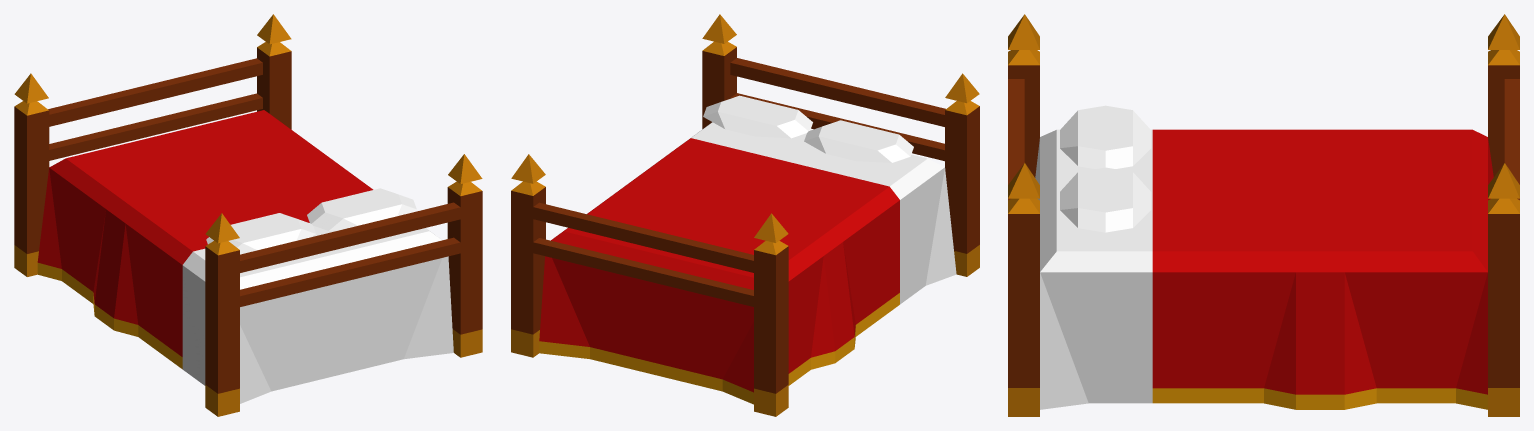
The model's file is Bigbed.obj.
3 views of the same model, side by side, from view 1: azimuth 30°, elevation 25°; view 2: azimuth 150°, elevation 25°; view 3: azimuth 270°, elevation 25° (orthographic). The views are drawn at different scales.
Visible parts, largest first — view 1: Bigbed_back; view 2: Bigbed_back; view 3: Bigbed_back.
Part boxes in pixels (<box>): Bigbed_back: <box>14,14,482,416</box>; Bigbed_back: <box>511,14,979,416</box>; Bigbed_back: <box>1008,14,1519,416</box>.
Bounding box in the file's own units: 2.52 × 1.79 × 3.36.
